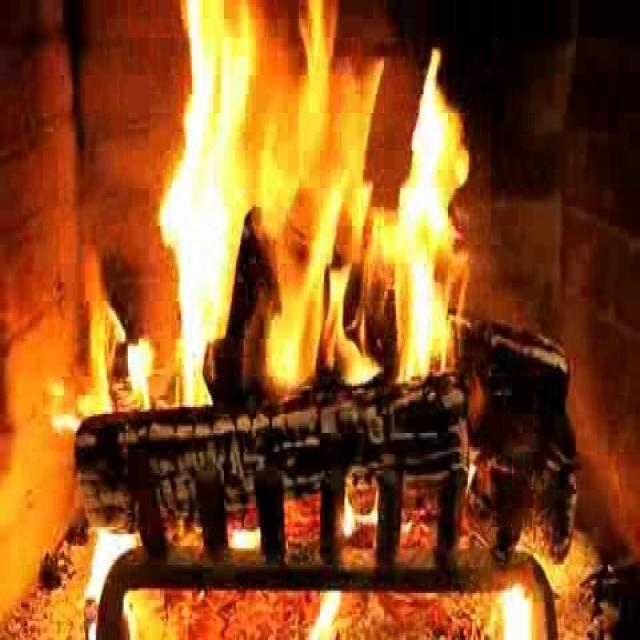Fire: (170, 21, 468, 414)
